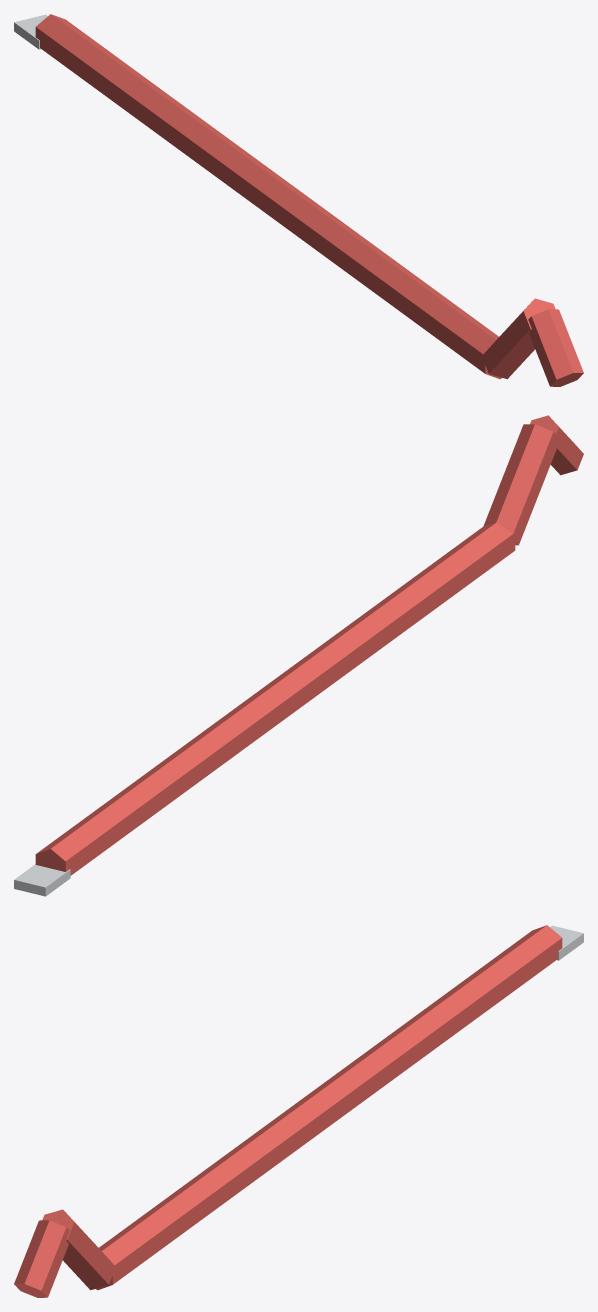
The model's file is crowbar.glb.
3 renders of one model, top to bottom at view 1: azimuth 30°, elevation 25°; view 2: azimuth 150°, elevation 25°; view 3: azimuth 330°, elevation 25°, orthographic.
Visible parts, largest first — view 1: crowbar; view 2: crowbar; view 3: crowbar.
Boxes of the visible parts, x1=… form: crowbar: x1=14, y1=14, x2=583, y2=386; crowbar: x1=14, y1=415, x2=583, y2=896; crowbar: x1=14, y1=925, x2=583, y2=1297.
Size of the model in its own units: 0.022 by 0.0705 by 0.6528.
